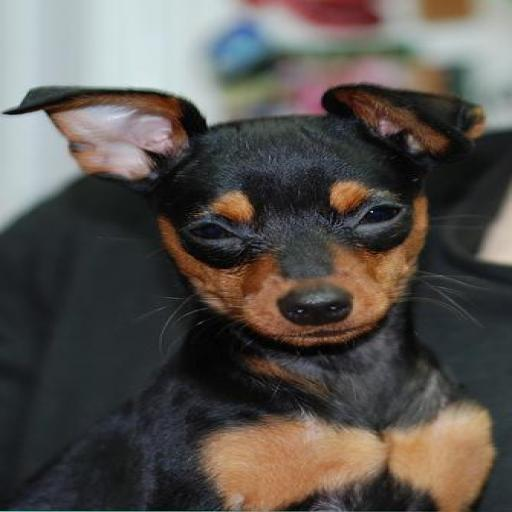dog_face: (46, 72, 445, 345)
